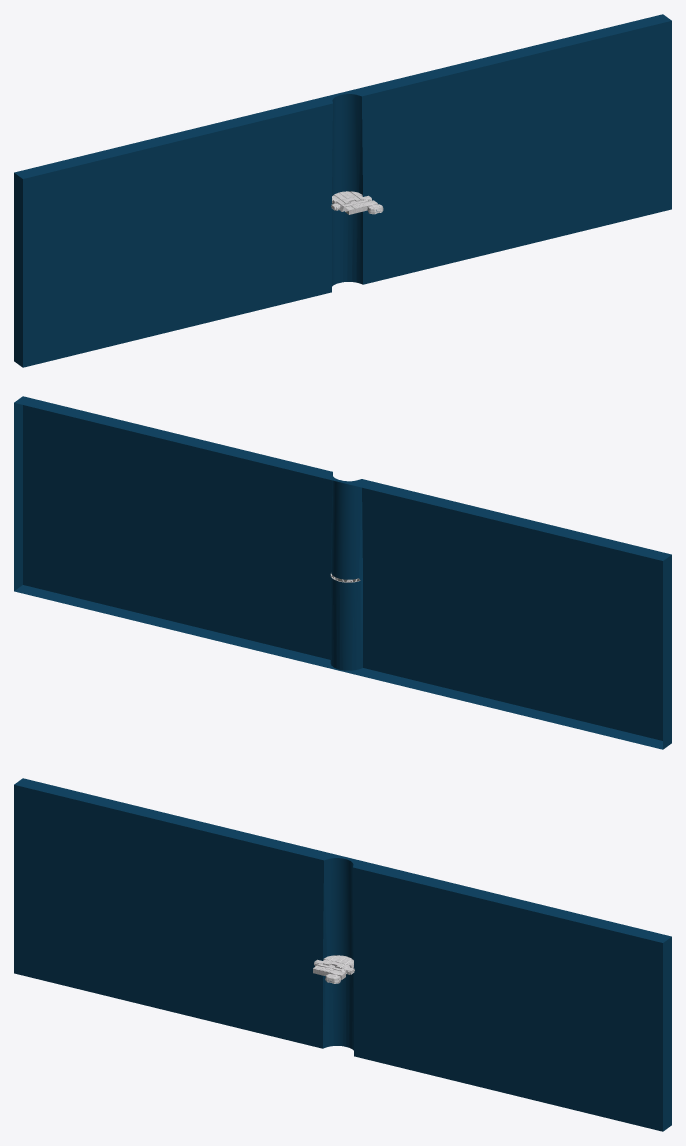
Rendered from thm_spc_star_destroyer_s01_r53_commandeck_mesh_r53.fbx.
3 renders of one model, top to bottom at view 1: azimuth 30°, elevation 25°; view 2: azimuth 150°, elevation 25°; view 3: azimuth 330°, elevation 25°, orthographic.
Visible parts, largest first — view 1: mesh_node; view 2: mesh_node; view 3: mesh_node.
Part boxes in pixels (box(x1,y1,x2,y2)): mesh_node: box(14, 14, 671, 367); mesh_node: box(14, 396, 671, 749); mesh_node: box(14, 778, 671, 1131).
Size of the model in its own units: 540 by 150 by 41.11.
Materials: 3 (3 with a texture image).
